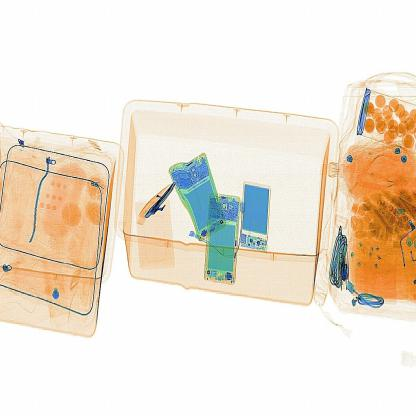pliers: (134, 170, 180, 232)
